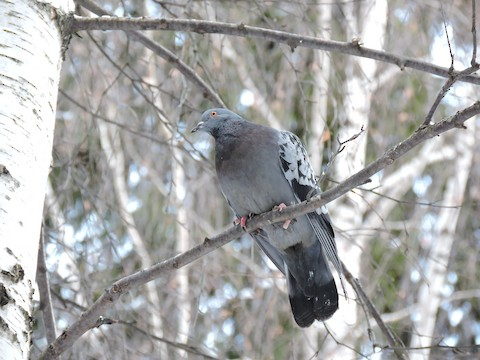pigeon: (187, 100, 359, 333)
